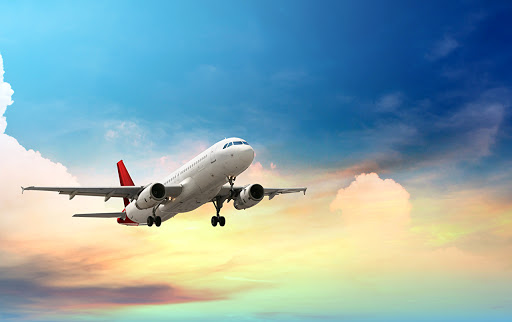plane: (22, 134, 310, 230)
